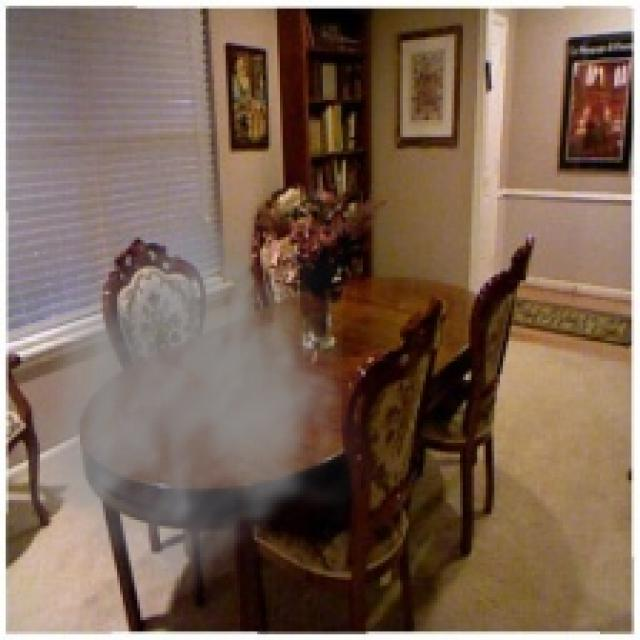smoke: (29, 200, 380, 609)
